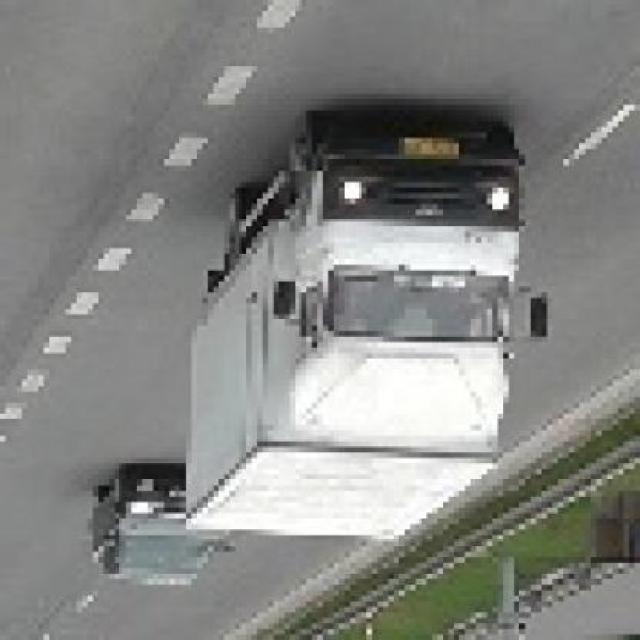truck: (193, 111, 554, 559)
